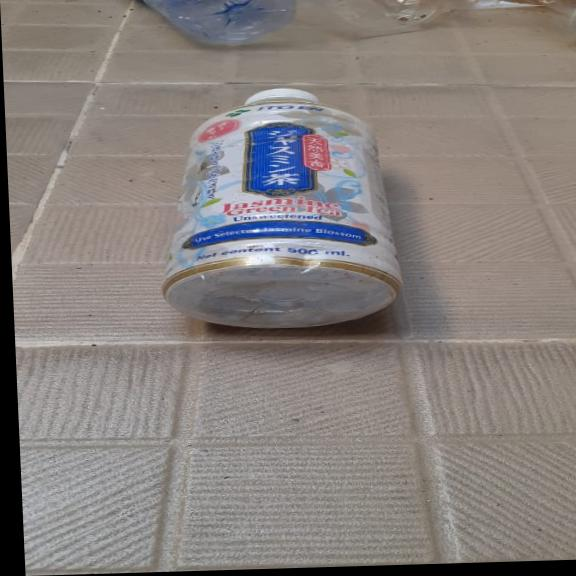Plastik: (154, 83, 405, 332)
